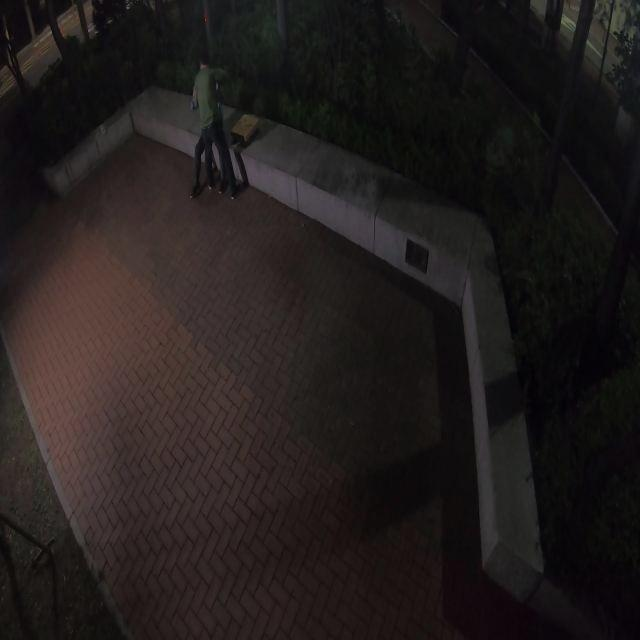fight: (186, 52, 241, 205)
